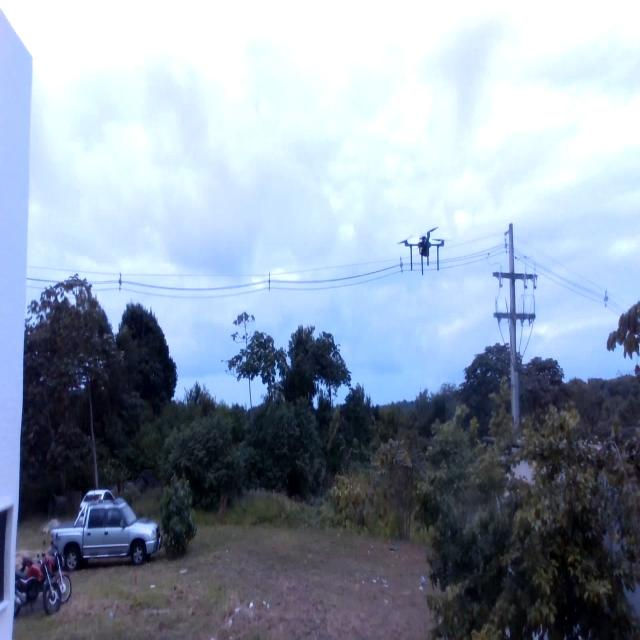-uav-: (393, 210, 452, 288)
